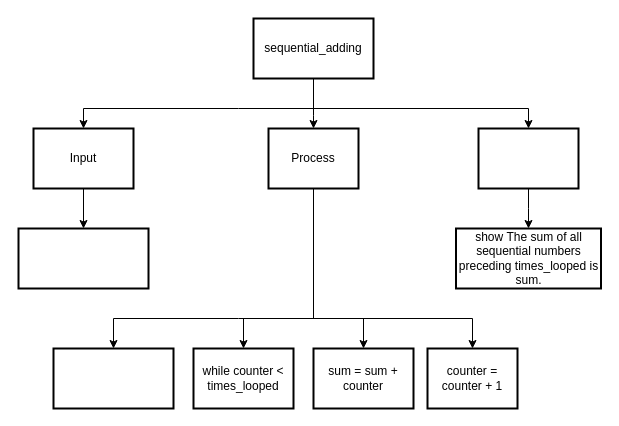
The diagram is 619 pixels wide and 426 high, and some of its shapes have lost their labels. Each missing label, with the centre of its shape:
"convert times_looped_string to an integer" belongs at [113,378].
"get times_looped_string" belongs at [83,258].
"Output" belongs at [528,158].
